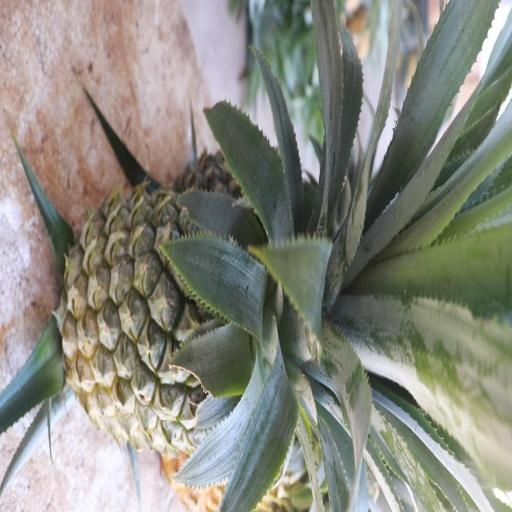------------------------------: (56, 180, 302, 450)
